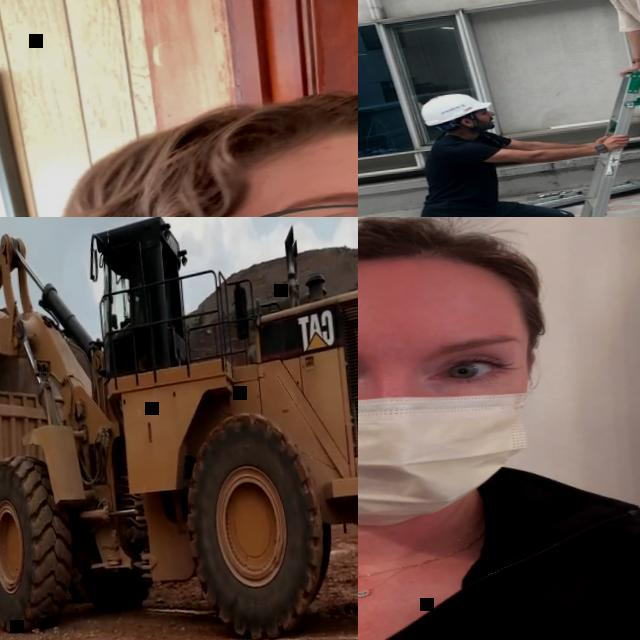Hardhat: (419, 90, 492, 126)
Mask: (358, 335, 550, 537)
NO-Hardhat: (80, 75, 358, 205), (358, 217, 539, 326)
NO-Mask: (472, 115, 497, 132)
NO-Safety Vest: (358, 485, 640, 640), (420, 129, 512, 215)
Person: (358, 217, 640, 640), (0, 68, 358, 217), (408, 77, 640, 217), (549, 0, 640, 162)
vehicle: (0, 217, 358, 640), (0, 363, 78, 634)
